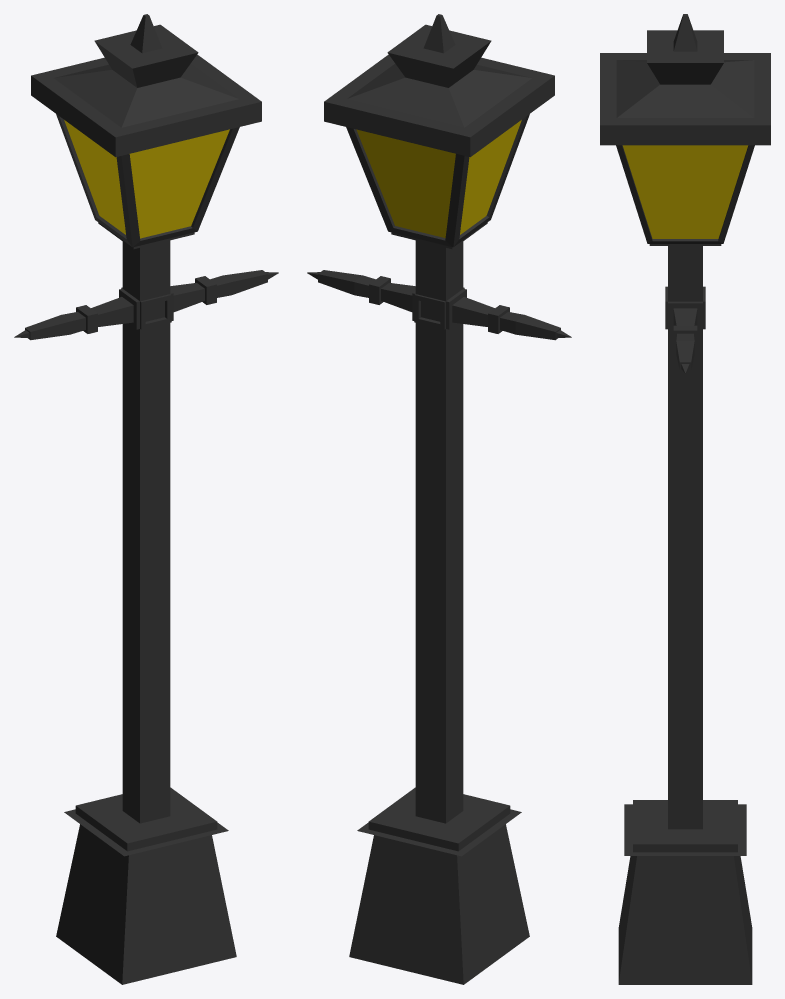
File: LanternColored.fbx
The picture shows the model from 3 angles, left to right: view 1: azimuth 30°, elevation 25°; view 2: azimuth 150°, elevation 25°; view 3: azimuth 270°, elevation 25°; orthographic projection.
Parts seen in each view (by area): view 1: Cube; view 2: Cube; view 3: Cube.
Part boxes in pixels (box(x1,y1,x2,y2)): Cube: box(14, 14, 278, 984); Cube: box(307, 14, 571, 984); Cube: box(600, 14, 770, 984).
Bounding box in the file's own units: 104 × 351 × 57.66.
